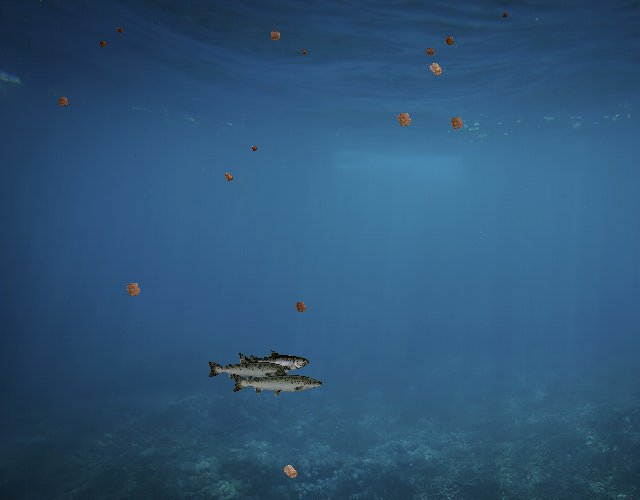Fish: (231, 366, 325, 399), (206, 353, 292, 384), (236, 349, 309, 376)
Pellet: (276, 458, 304, 486), (119, 276, 147, 304), (422, 55, 449, 82), (444, 110, 469, 136), (290, 296, 312, 318), (220, 168, 238, 186), (248, 142, 260, 154)
